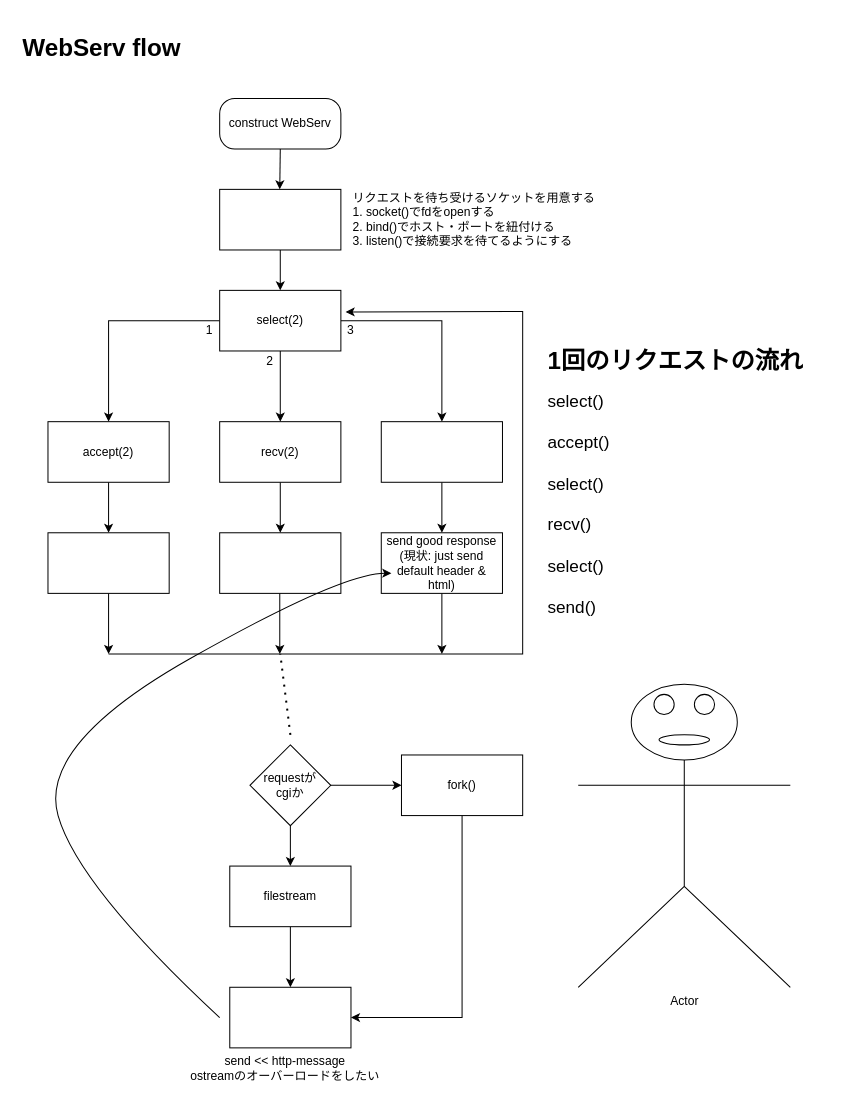
The diagram is 842 pixels wide and 1115 high, and some of its shapes have lost their labels. Here are the shapes that lost their labels. From the top down, the centre of each, then its label:
At (x=280, y=219): "make Servers (socket(2), bind(2), listen(2))".
At (x=441, y=451): "send(2)".
At (x=108, y=562): "add new client_fd".
At (x=280, y=562): "get request header (現状: just print header)".
At (x=290, y=1017): "void* buf".
